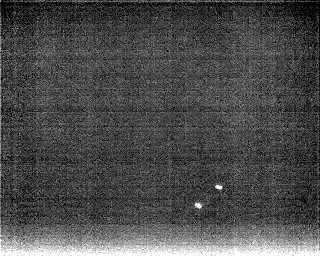BIRD: (192, 200, 204, 212)
